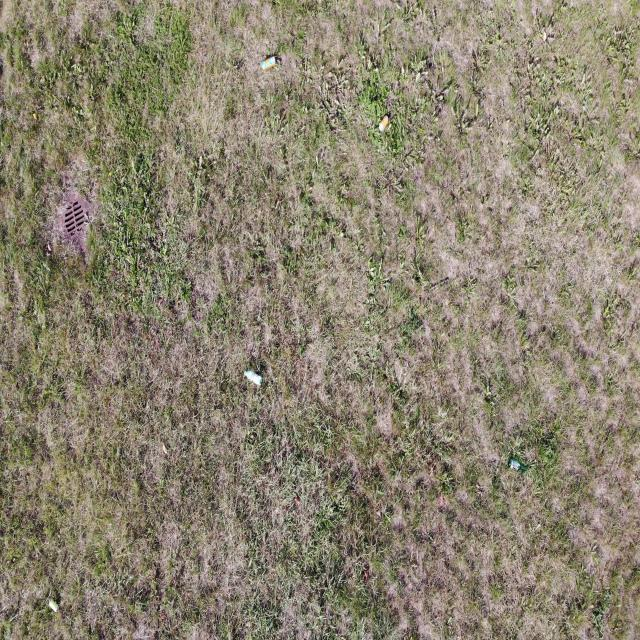rubbish: (507, 457, 528, 472), (244, 371, 262, 387), (261, 56, 276, 70), (379, 115, 389, 132), (48, 599, 59, 612)
